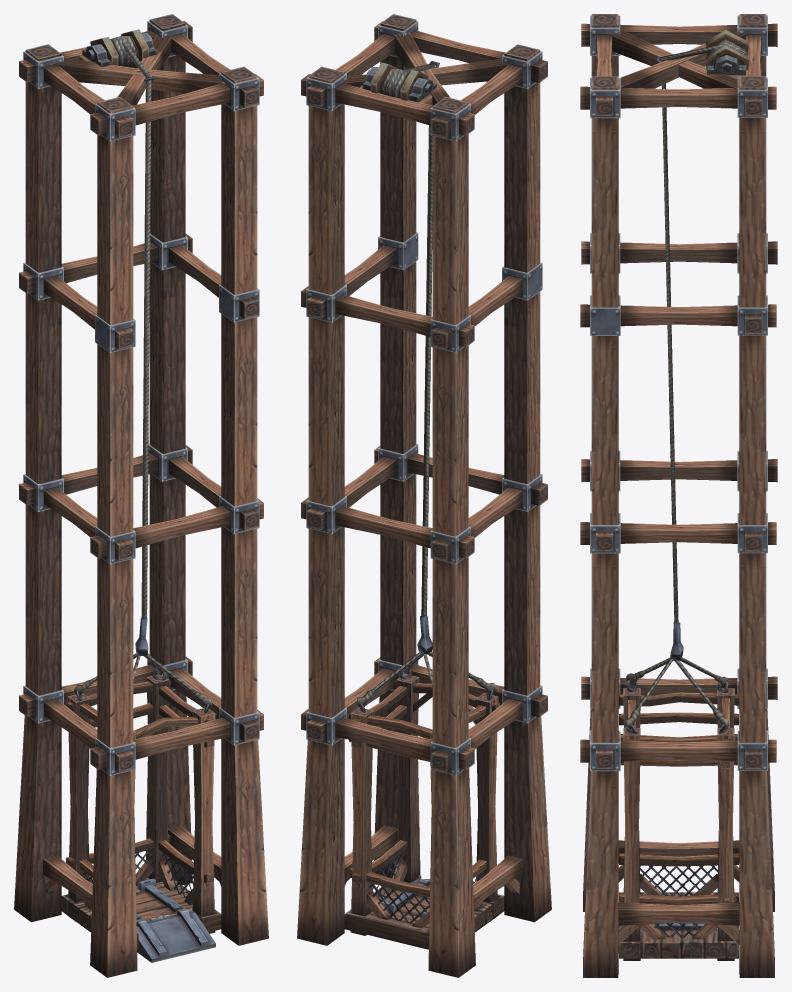
File: mine_entry_01.fbx
3 views of the same model, side by side, from view 1: azimuth 30°, elevation 25°; view 2: azimuth 150°, elevation 25°; view 3: azimuth 270°, elevation 25° (orthographic). The views are drawn at different scales.
Parts seen in each view (by area): view 1: mine_entry_01-0; view 2: mine_entry_01-0; view 3: mine_entry_01-0.
Part boxes in pixels (left/top/right/bottom): mine_entry_01-0: left=14, top=14, right=268, bottom=977; mine_entry_01-0: left=297, top=14, right=551, bottom=977; mine_entry_01-0: left=580, top=14, right=777, bottom=977.
Size of the model in its own units: 4.53 by 22.72 by 4.53.
